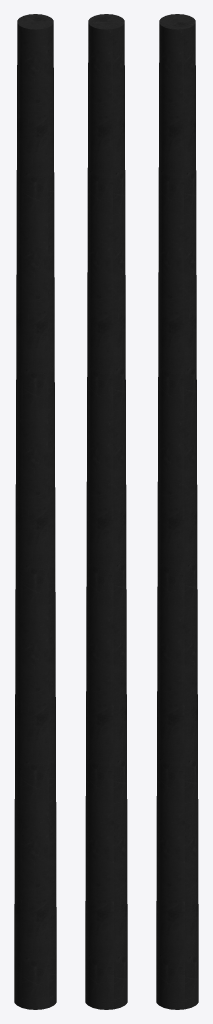
3 views of the same model, side by side, from view 1: azimuth 90°, elevation 25°; view 2: azimuth 150°, elevation 25°; view 3: azimuth 330°, elevation 25° (orthographic).
Parts seen in each view (by area): view 1: 584110; view 2: 584110; view 3: 584110.
Boxes of the visible parts, box(x1,y1,x2,y2) form: 584110: box(14, 14, 56, 1009); 584110: box(85, 14, 127, 1009); 584110: box(156, 14, 198, 1009).
Bounding box in the file's own units: 0.2 × 5 × 0.1972.
Materials: 1 (1 with a texture image).
